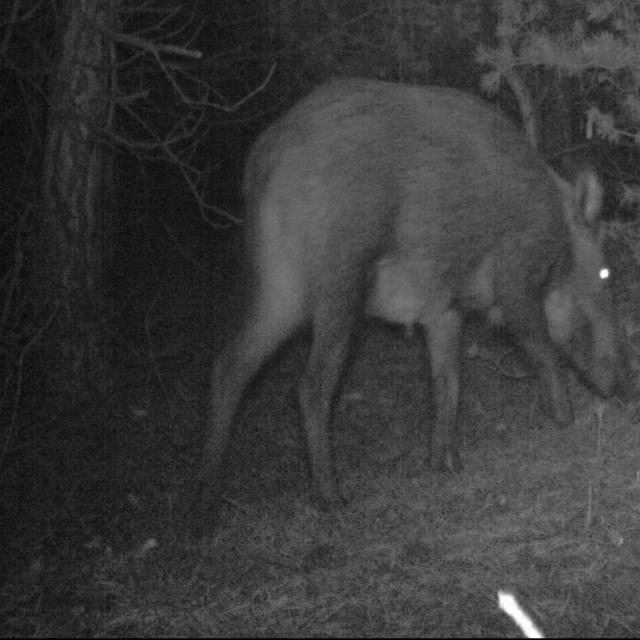pig: (140, 14, 640, 534)
